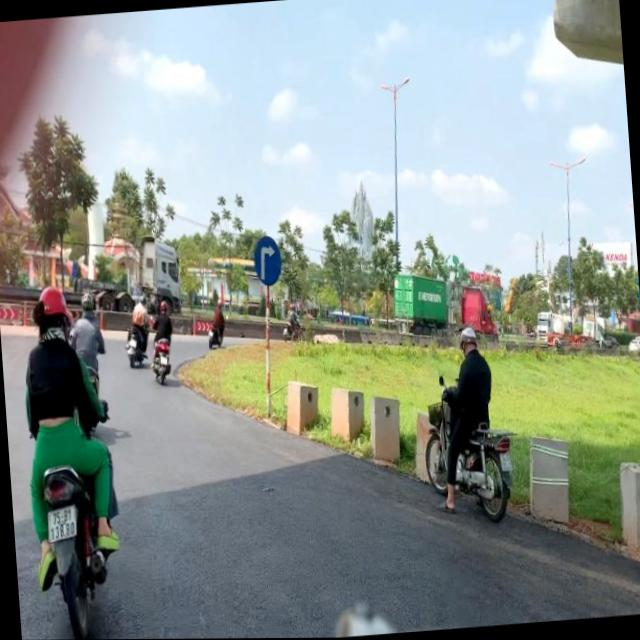Cac xe chi duoc re phai: (251, 234, 284, 288)
